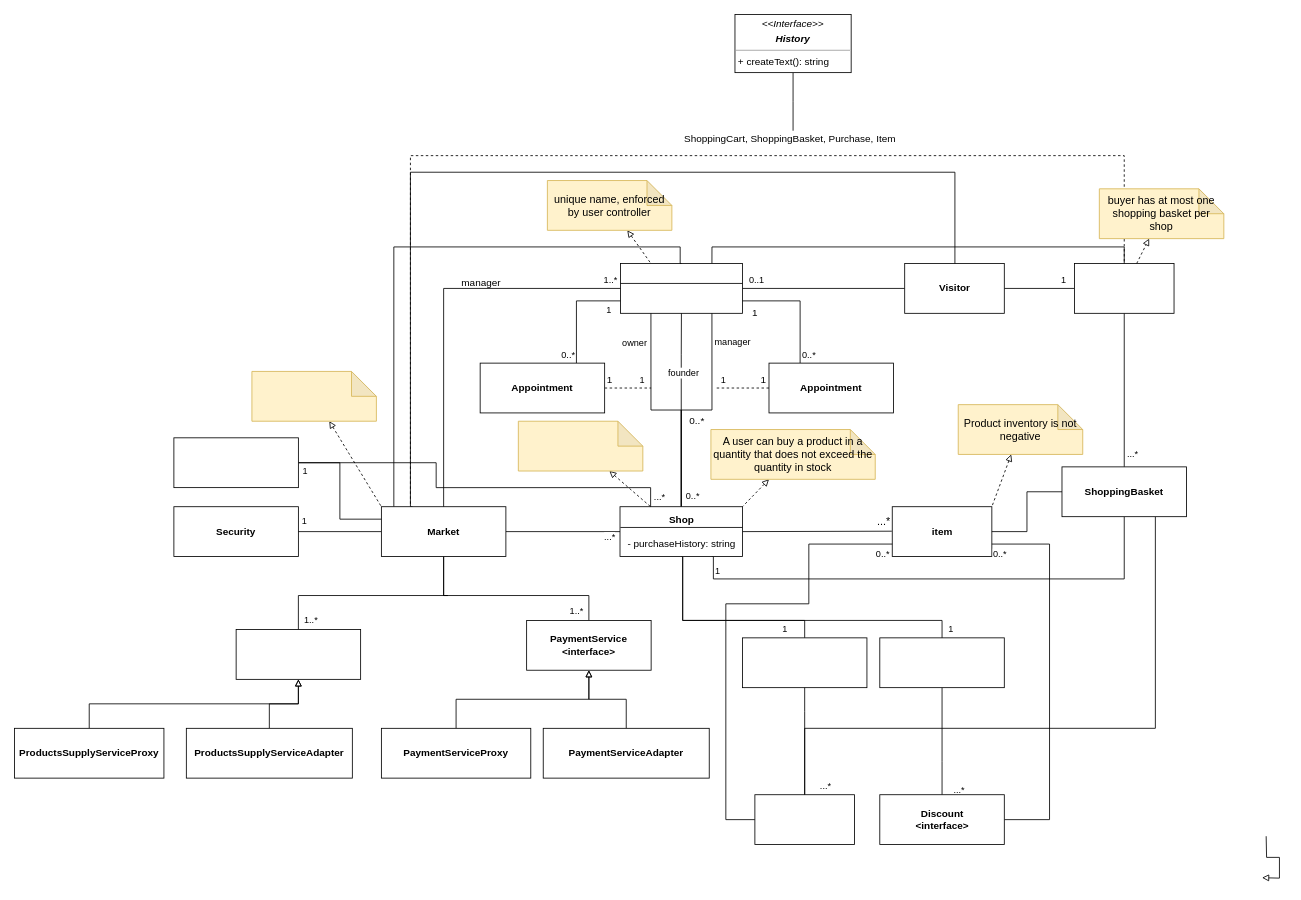
This 1301x900 diagram has some shape labels left out. The shapes that lost their labels are listed below. From the top down, each one's centre as x and y in pixels, then its label:
[681,288]: Member -history: string
[1124,288]: ShoppingCart
[313,396]: integrity rules
[235,462]: History
[580,445]: םפקמ shop has at least one shop owner
[298,654]: ProductsSupplyService <interface>
[804,662]: PurchasePolicy
[941,662]: DiscountPolicy
[804,819]: Purchase <interface>
